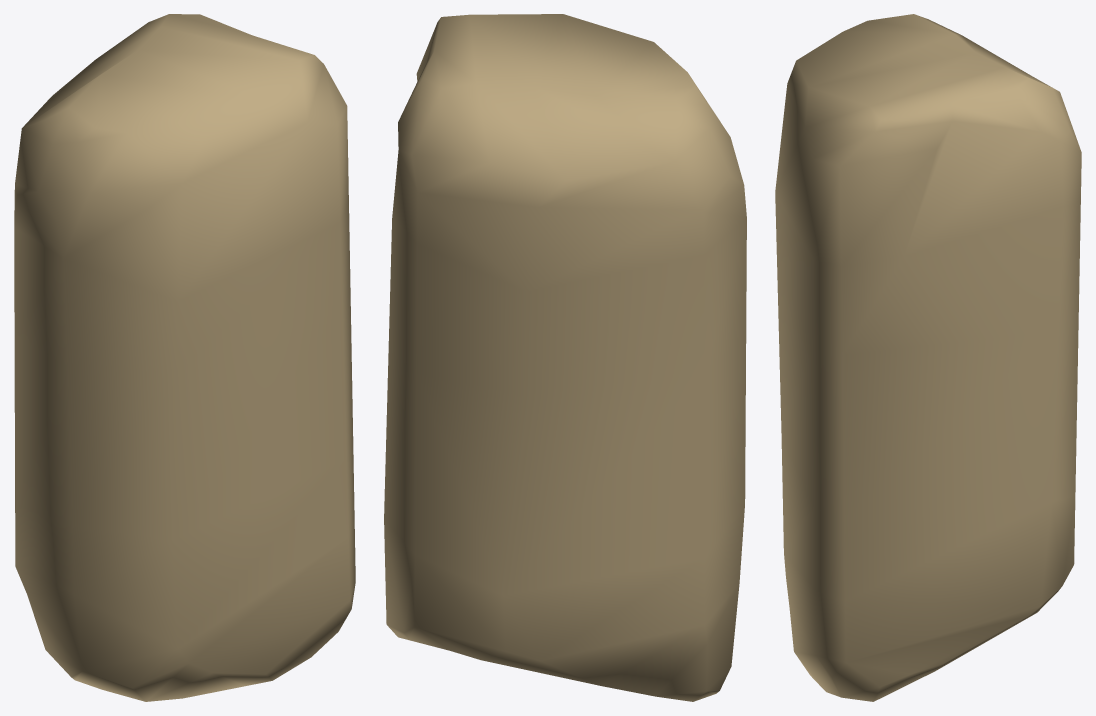
File: rock_03_low.fbx
3 renders of one model, left to right at view 1: azimuth 30°, elevation 25°; view 2: azimuth 150°, elevation 25°; view 3: azimuth 270°, elevation 25°, orthographic. The views are drawn at different scales.
Visible parts, largest first — view 1: rock_03_low; view 2: rock_03_low; view 3: rock_03_low.
Boxes of the visible parts, left/top/right/bottom form: rock_03_low: left=14, top=14, right=355, bottom=701; rock_03_low: left=384, top=14, right=746, bottom=701; rock_03_low: left=775, top=14, right=1081, bottom=701.
Size of the model in its own units: 112 by 215 by 98.86.
